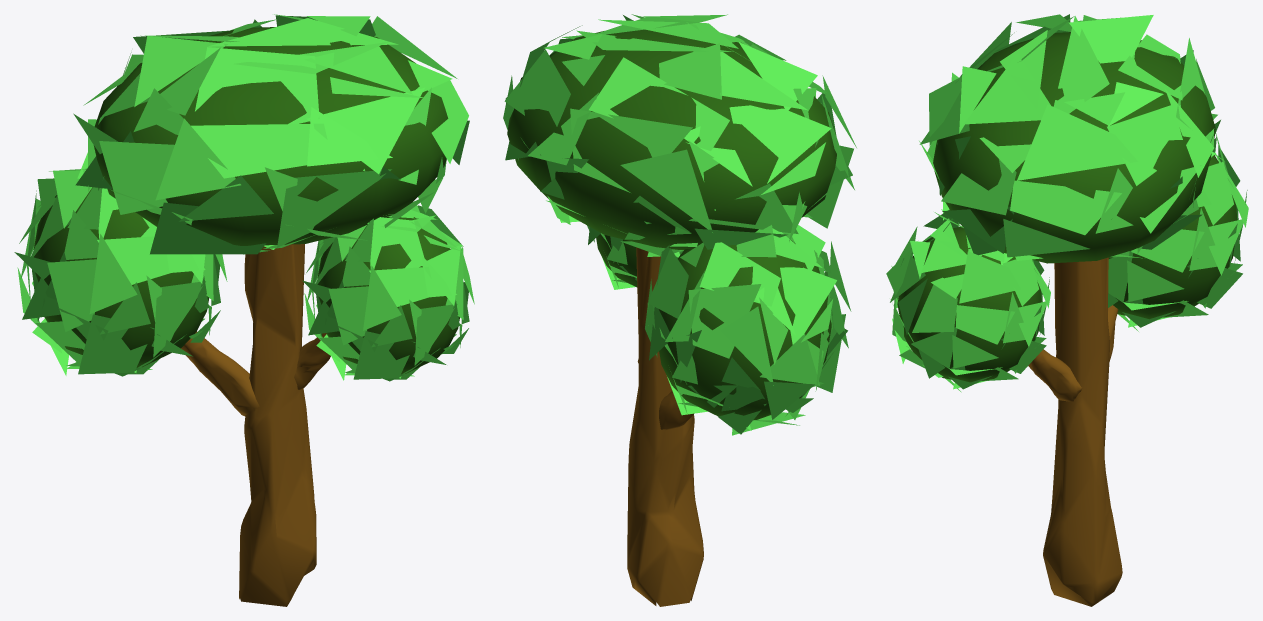
The model's file is ArbolDEFDEF2.fbx.
3 views of the same model, side by side, from view 1: azimuth 30°, elevation 25°; view 2: azimuth 150°, elevation 25°; view 3: azimuth 270°, elevation 25° (orthographic). The views are drawn at different scales.
Visible parts, largest first — view 1: Tree2DEF, Object001; view 2: Tree2DEF, Object001; view 3: Tree2DEF, Object001.
Boxes of the visible parts, bbox=[...] form: Tree2DEF: bbox=[14, 14, 474, 381]; Object001: bbox=[181, 244, 330, 606]; Tree2DEF: bbox=[503, 14, 856, 435]; Object001: bbox=[627, 247, 703, 606]; Tree2DEF: bbox=[886, 14, 1248, 392]; Object001: bbox=[1028, 257, 1122, 606].
Size of the model in its own units: 259 by 390 by 233.
